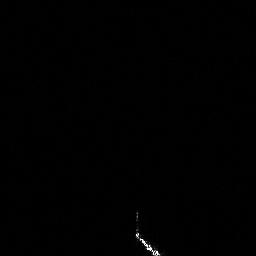ship: (135, 231, 163, 256)
